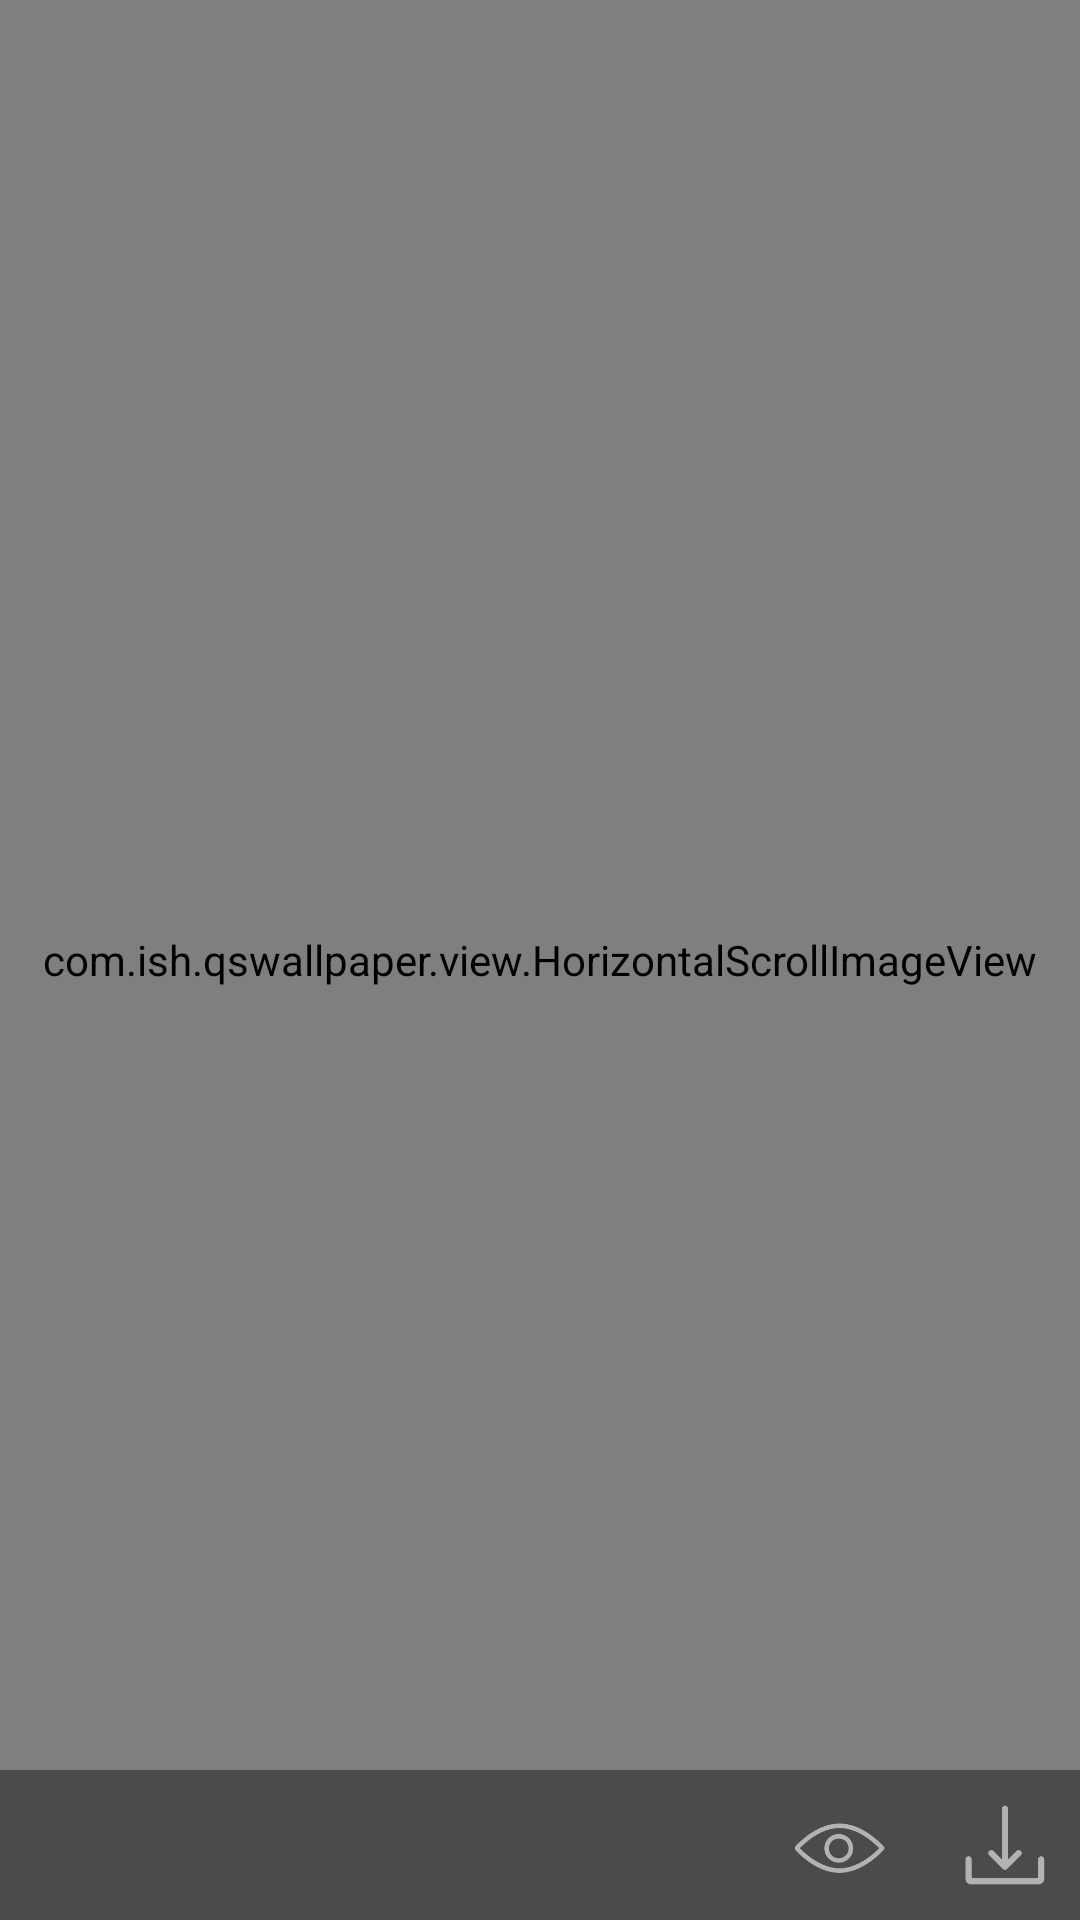

Named icons in this screenshot (1080*1920) and their centers, point (x, y):
download: point (1004, 1845)
